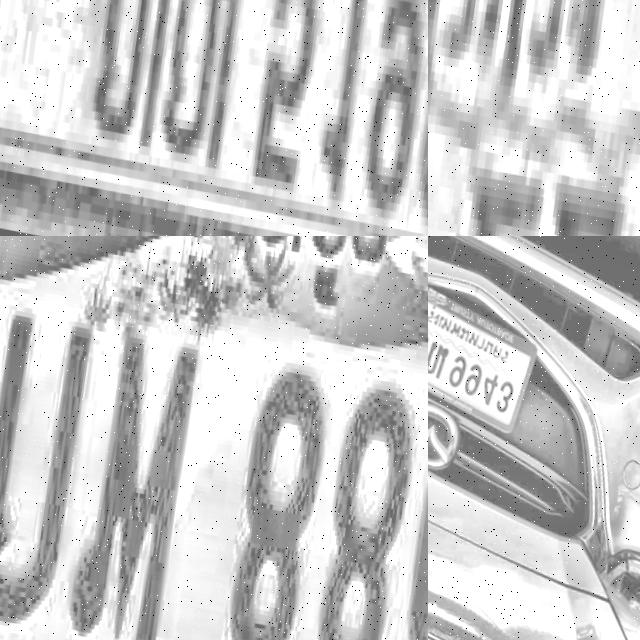license-plate: (0, 236, 428, 640), (0, 0, 428, 236), (428, 0, 640, 236), (428, 264, 543, 436)
